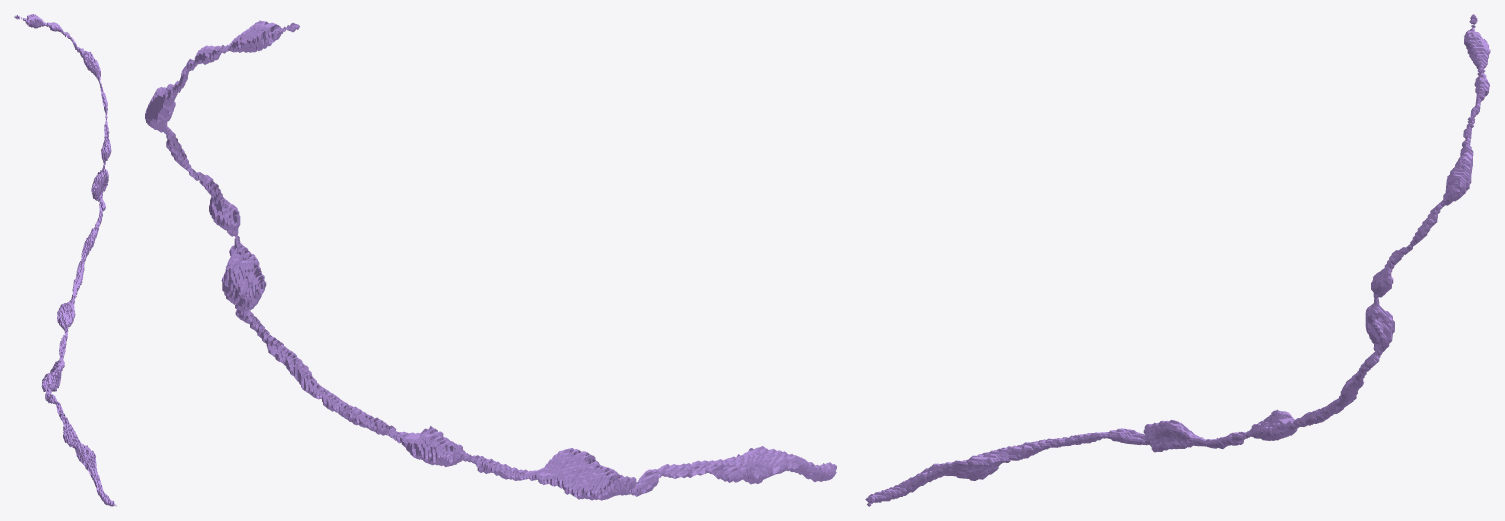
Rendered from SVV_AWAR.gltf.
The picture shows the model from 3 angles, left to right: view 1: azimuth 30°, elevation 25°; view 2: azimuth 150°, elevation 25°; view 3: azimuth 270°, elevation 25°; orthographic projection. The views are drawn at different scales.
Visible parts, largest first — view 1: AWAR; view 2: AWAR; view 3: AWAR.
Boxes of the visible parts, x1,y1,x2,y2 form: AWAR: [14, 14, 116, 506]; AWAR: [145, 20, 836, 500]; AWAR: [865, 14, 1490, 506].
Size of the model in its own units: 83693 by 158962 by 161167.
